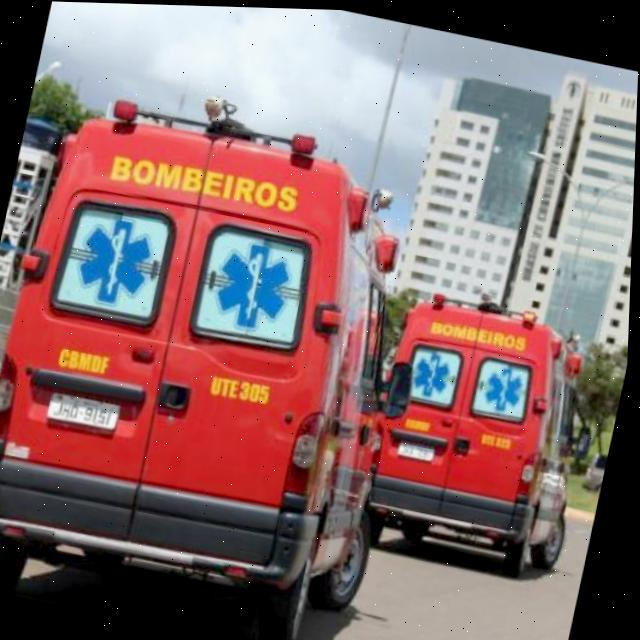emergency: (0, 59, 461, 640), (350, 273, 618, 582)
